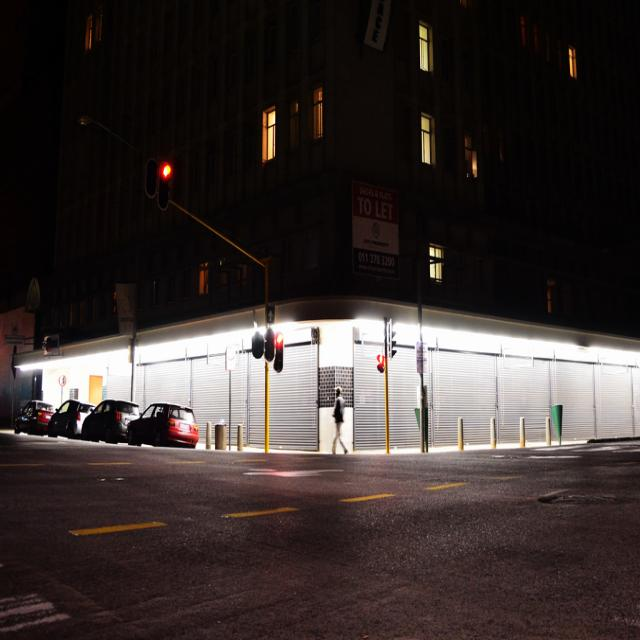car: (117, 398, 196, 452)
